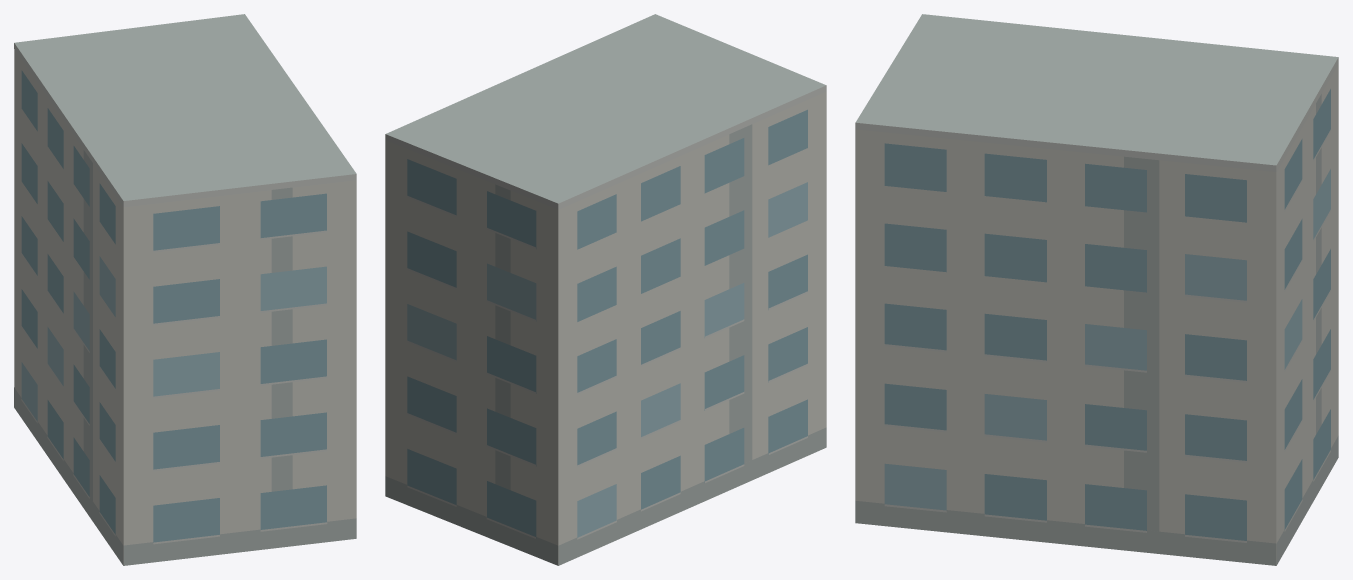
Rendered from survey-upis-32850275.glb.
3 views of the same model, side by side, from view 1: azimuth 30°, elevation 25°; view 2: azimuth 150°, elevation 25°; view 3: azimuth 270°, elevation 25° (orthographic). The views are drawn at different scales.
Visible parts, largest first — view 1: survey-upis-32850275.tmp; view 2: survey-upis-32850275.tmp; view 3: survey-upis-32850275.tmp.
Part boxes in pixels (box(x1,y1,x2,y2)): survey-upis-32850275.tmp: box(14, 14, 356, 565); survey-upis-32850275.tmp: box(385, 14, 826, 565); survey-upis-32850275.tmp: box(855, 14, 1338, 565).
Size of the model in its own units: 11.84 by 14.58 by 15.96.
